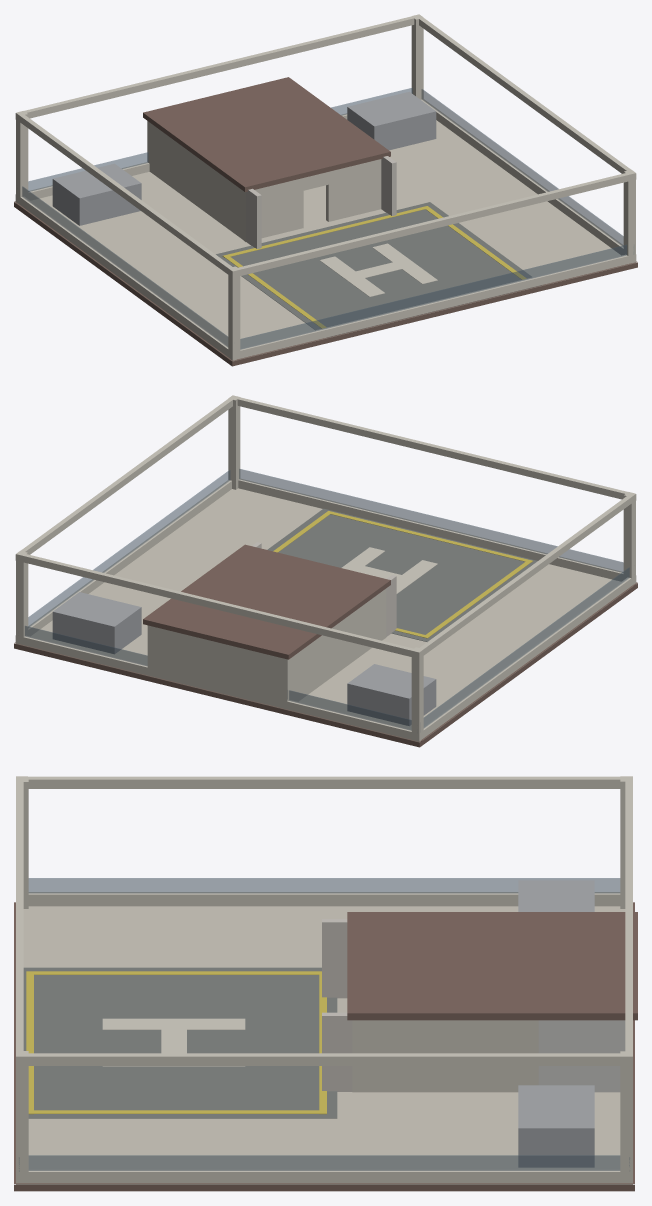
File: brick-roof-a.glass-v1.lod0.glb
3 views of the same model, one above another, from view 1: azimuth 30°, elevation 25°; view 2: azimuth 150°, elevation 25°; view 3: azimuth 270°, elevation 25° (orthographic). The views are drawn at different scales.
Visible parts, largest first — view 1: brick-roof-a; view 2: brick-roof-a; view 3: brick-roof-a.
Part boxes in pixels (x1=…): brick-roof-a: x1=14, y1=14, x2=637, y2=366; brick-roof-a: x1=14, y1=395, x2=637, y2=747; brick-roof-a: x1=14, y1=776, x2=637, y2=1191.
Size of the model in its own units: 26.16 by 5.83 by 24.48.
